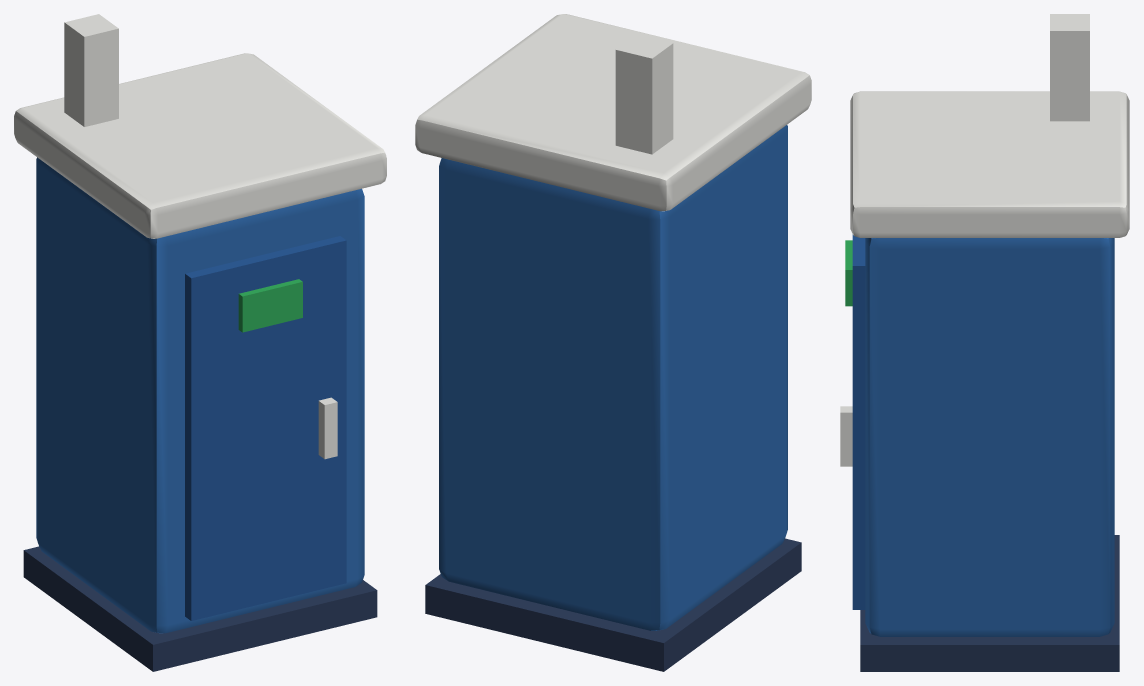
Rendered from site-toilet.glb.
3 renders of one model, left to right at view 1: azimuth 30°, elevation 25°; view 2: azimuth 150°, elevation 25°; view 3: azimuth 270°, elevation 25°, orthographic. The views are drawn at different scales.
Parts seen in each view (by area): view 1: part-toilet, part-toilet-door, part-toilet-roof, part-toilet-base, part-toilet-sign; view 2: part-toilet, part-toilet-roof, part-toilet-base; view 3: part-toilet, part-toilet-roof, part-toilet-base, part-toilet-door, part-toilet-sign.
Boxes of the visible parts, left/top/right/bottom form: part-toilet: left=36, top=157, right=364, bottom=633; part-toilet-door: left=185, top=236, right=346, bottom=620; part-toilet-roof: left=14, top=14, right=386, bottom=459; part-toilet-base: left=23, top=546, right=377, bottom=671; part-toilet-sign: left=238, top=279, right=302, bottom=332; part-toilet: left=439, top=125, right=787, bottom=630; part-toilet-roof: left=415, top=14, right=811, bottom=211; part-toilet-base: left=425, top=538, right=801, bottom=671; part-toilet: left=865, top=238, right=1114, bottom=636; part-toilet-roof: left=840, top=14, right=1129, bottom=466; part-toilet-base: left=860, top=535, right=1119, bottom=671; part-toilet-door: left=852, top=234, right=865, bottom=609; part-toilet-sign: left=845, top=240, right=852, bottom=306.
Size of the model in its own units: 5.6 by 12.4 by 5.8.
